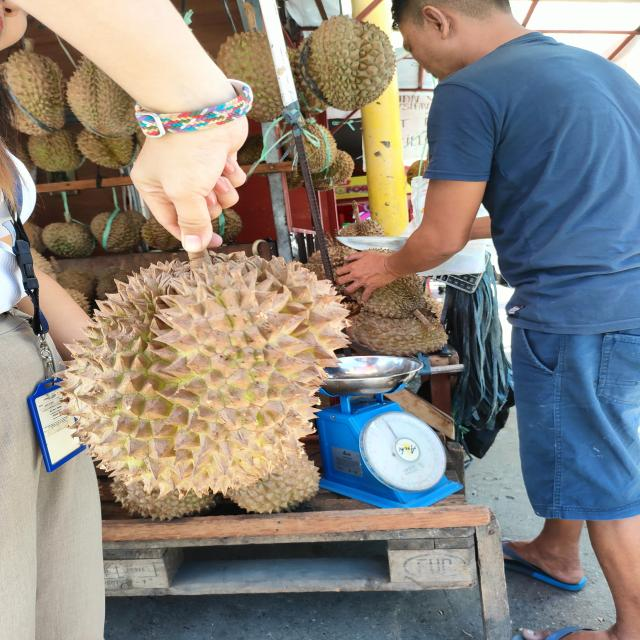mature: (46, 251, 366, 514)
